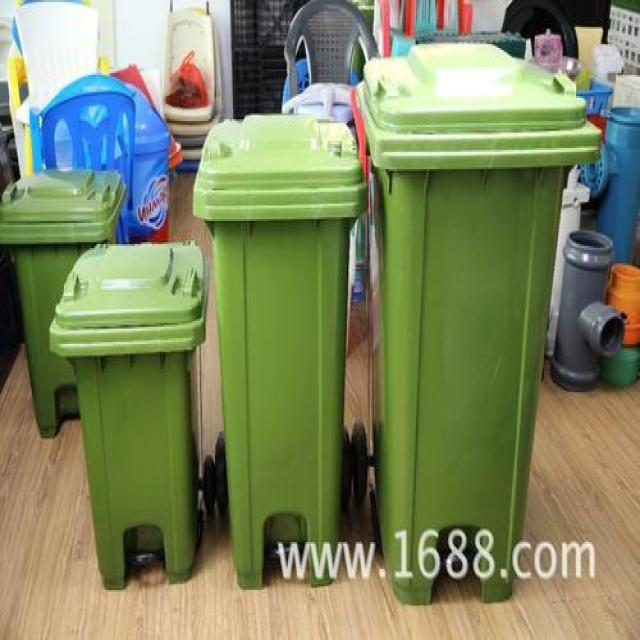garbage_bin: (355, 39, 599, 604), (191, 112, 367, 590), (49, 238, 207, 590), (0, 169, 127, 436)
